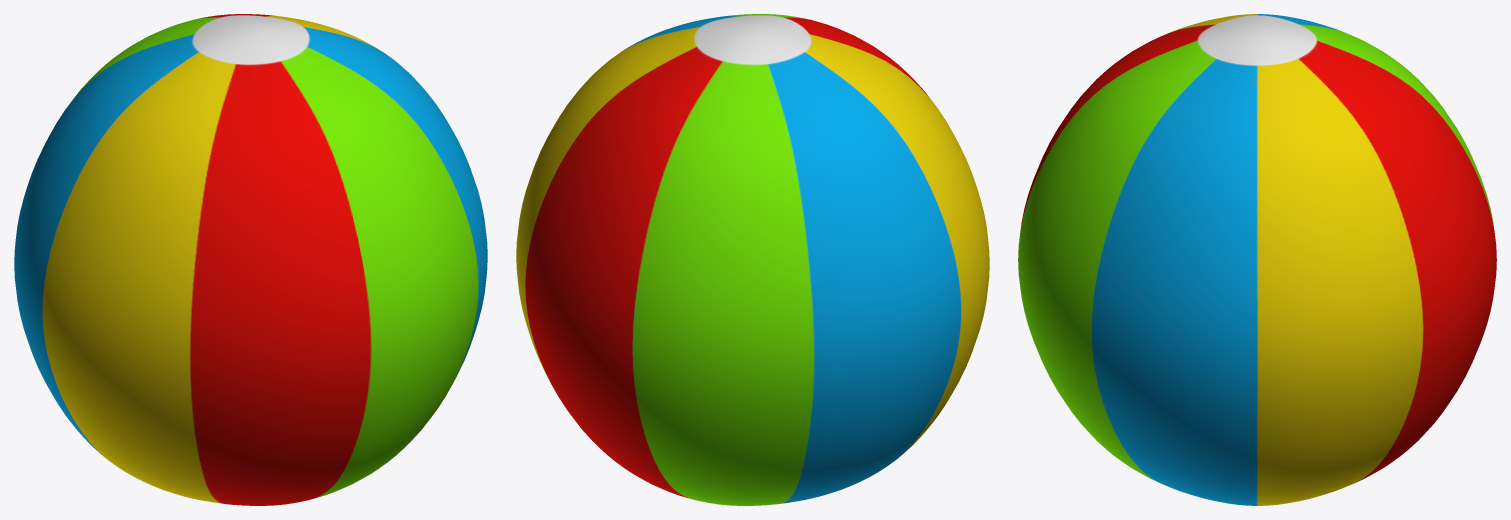
The model's file is beach_ball.fbx.
The picture shows the model from 3 angles, left to right: view 1: azimuth 30°, elevation 25°; view 2: azimuth 150°, elevation 25°; view 3: azimuth 270°, elevation 25°; orthographic projection.
Parts seen in each view (by area): view 1: Beach Ball; view 2: Beach Ball; view 3: Beach Ball.
Part boxes in pixels (bbox=[...]): Beach Ball: bbox=[14, 14, 487, 505]; Beach Ball: bbox=[516, 14, 989, 505]; Beach Ball: bbox=[1018, 14, 1496, 505].
Bounding box in the file's own units: 198 × 208 × 198.
Materials: 1 (1 with a texture image).
